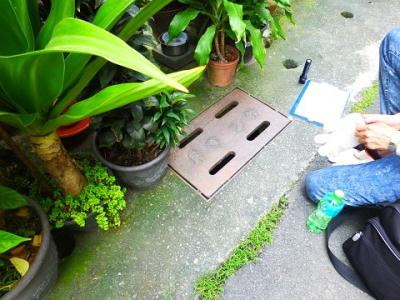bowl: (156, 29, 194, 58)
